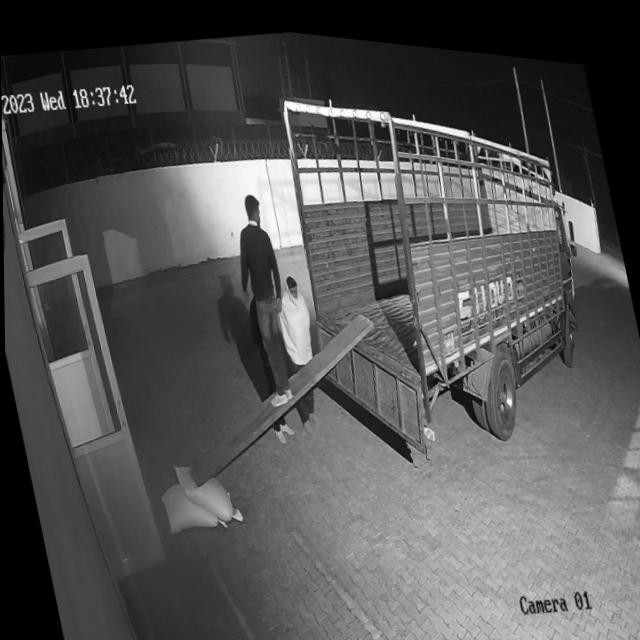sack: (171, 448, 241, 527), (157, 469, 225, 534)
